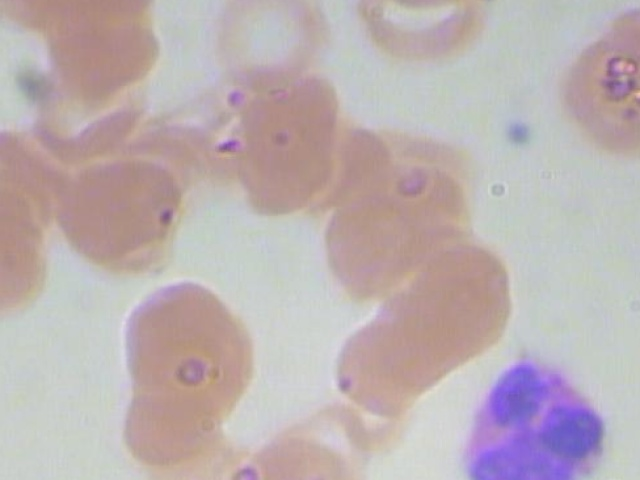Platelets: (496, 110, 545, 154)
RBC: (54, 160, 192, 288), (207, 98, 341, 218), (109, 347, 247, 463), (303, 184, 441, 300), (109, 279, 247, 394), (40, 1, 179, 104), (197, 0, 336, 95), (549, 35, 640, 167), (242, 417, 377, 480), (0, 211, 69, 327)
WBC: (433, 353, 640, 480)
